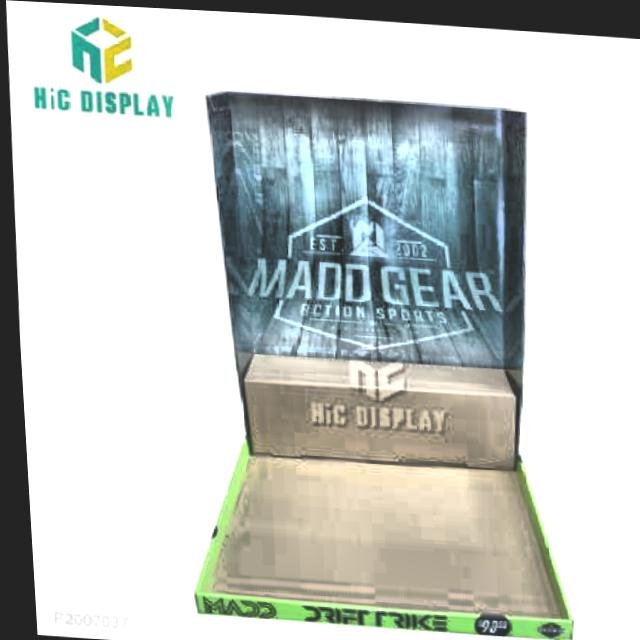Cardbox: (176, 341, 570, 635)
